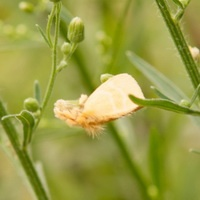insect: (54, 73, 144, 135)
